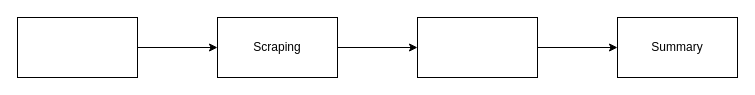
Some shapes in this 755 by 95 pixel diagram are drawn without their labels. Here are the shapes that lost their labels. From the top down, the centre of each, then its label:
At point (77, 47): "Librairies import".
At point (477, 47): "Pre-processing".
